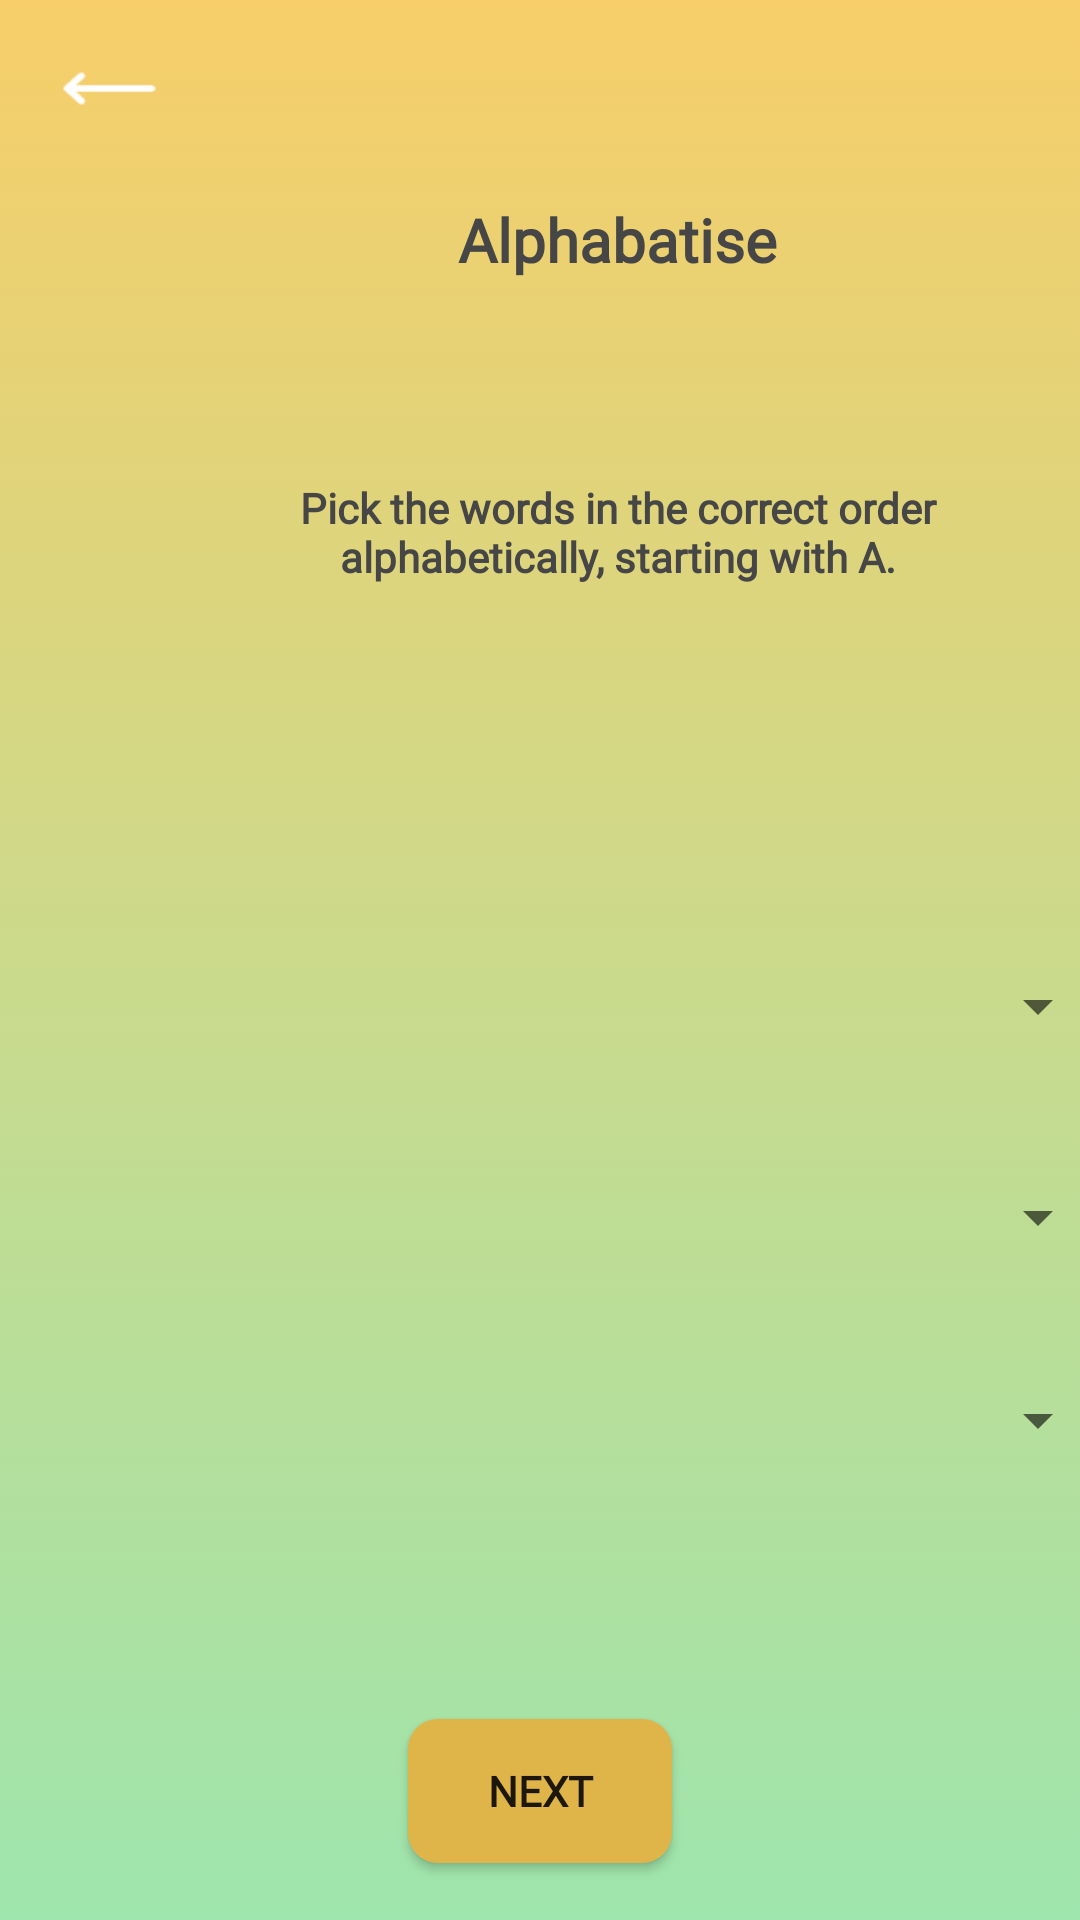

Named icons in this screenshot (1080px×1920px) and their bounding boxes, (x1, y1, x2, y2):
backarrow: (63, 72, 156, 105)
